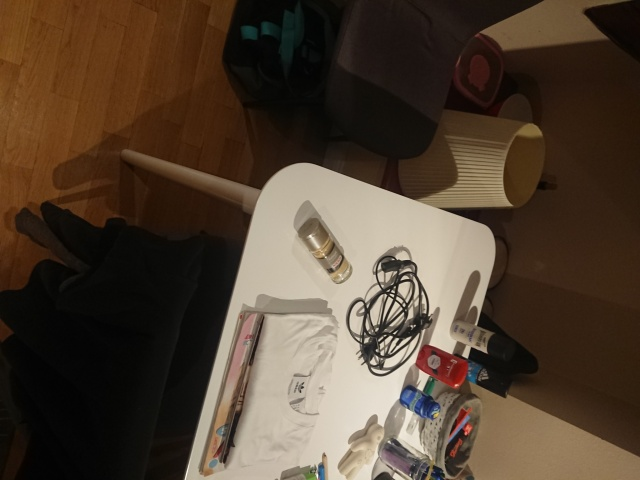Kotanyi Garlic Granules 70g: (296, 215, 355, 286)
